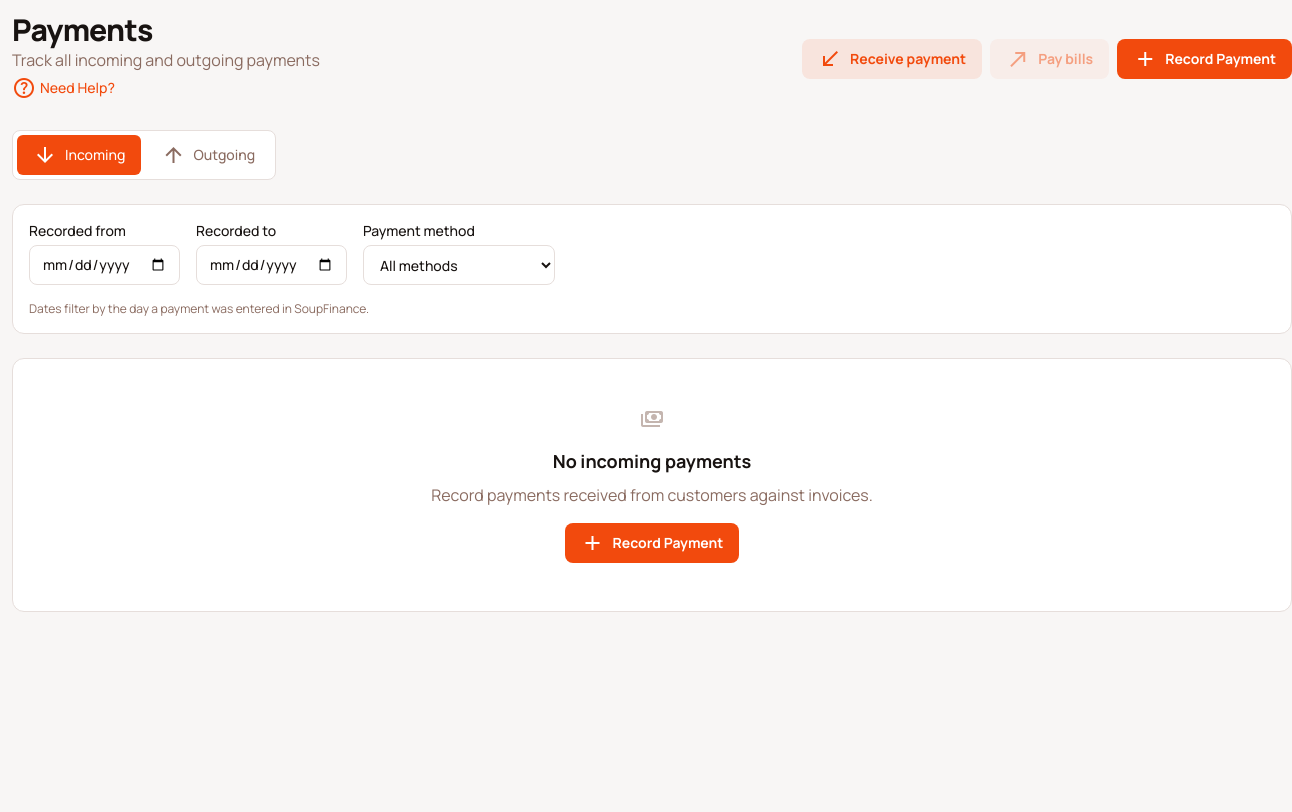
it: PaymentListPage › module disabled on ONE tab only › explains the gate on the failing tab and leaves the working tab alone
The image size is (1292, 812).
Expected: the element with test id "payment-list-empty" is shown, x1=431 y1=405 x2=873 y2=563
Click the button with test id "tab-outgoing".
click(208, 155)  # box x1=145 y1=135 x2=271 y2=175
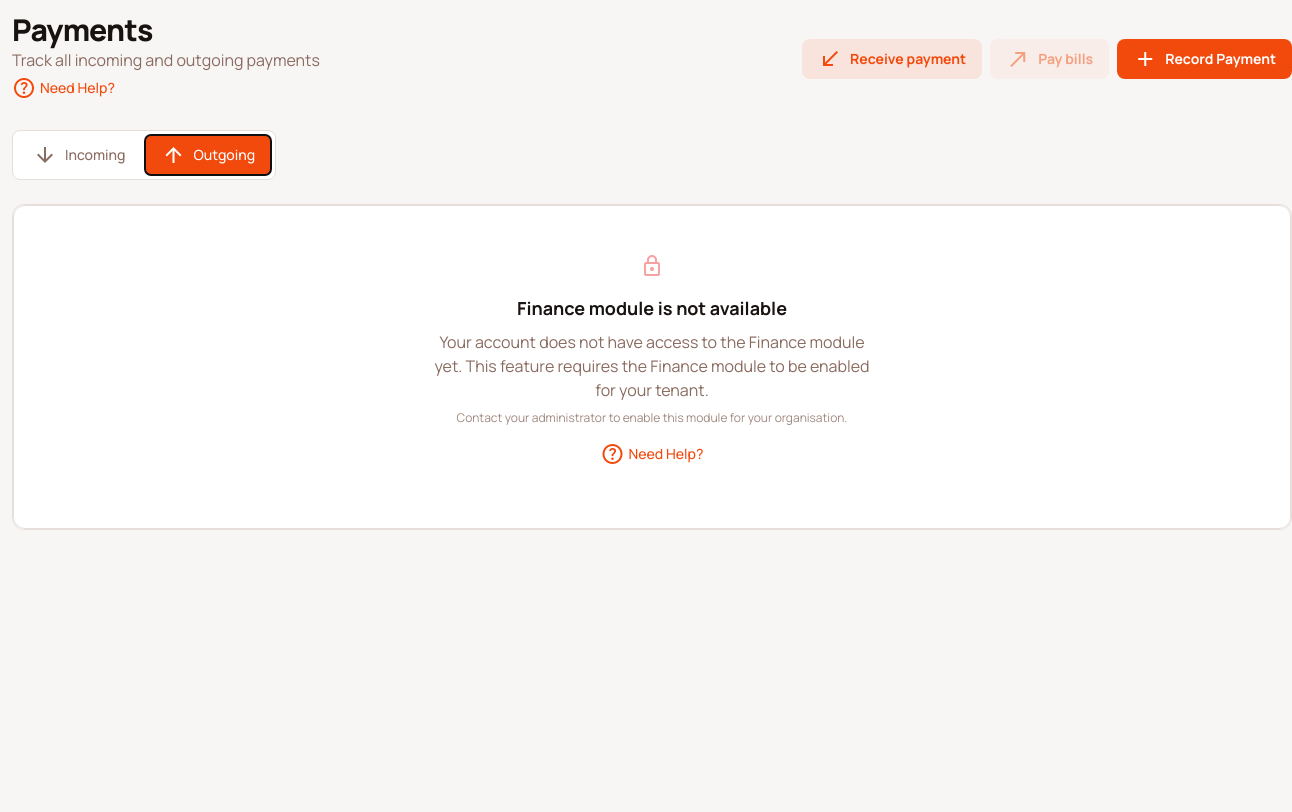
Expected: the heading with test id "payment-list-error-title" reads "Finance module is not available", x1=517 y1=296 x2=787 y2=320
Expected: the text with test id "payment-list-error-hint" shows "Contact your administrator", x1=457 y1=409 x2=848 y2=426
Expected: the element with test id "payment-filters" is gone
